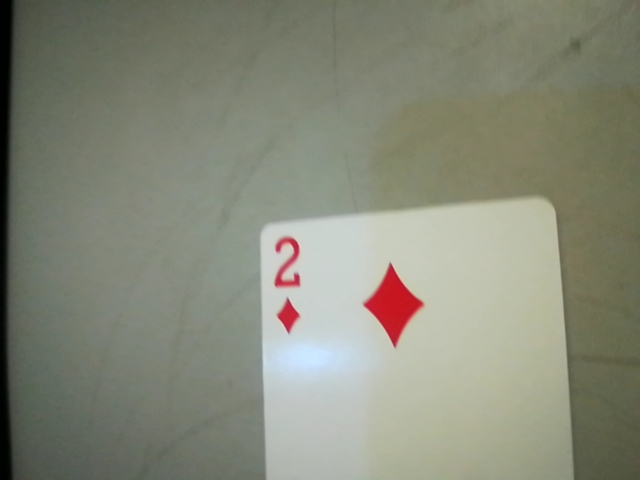fk 2: (259, 227, 316, 341)
